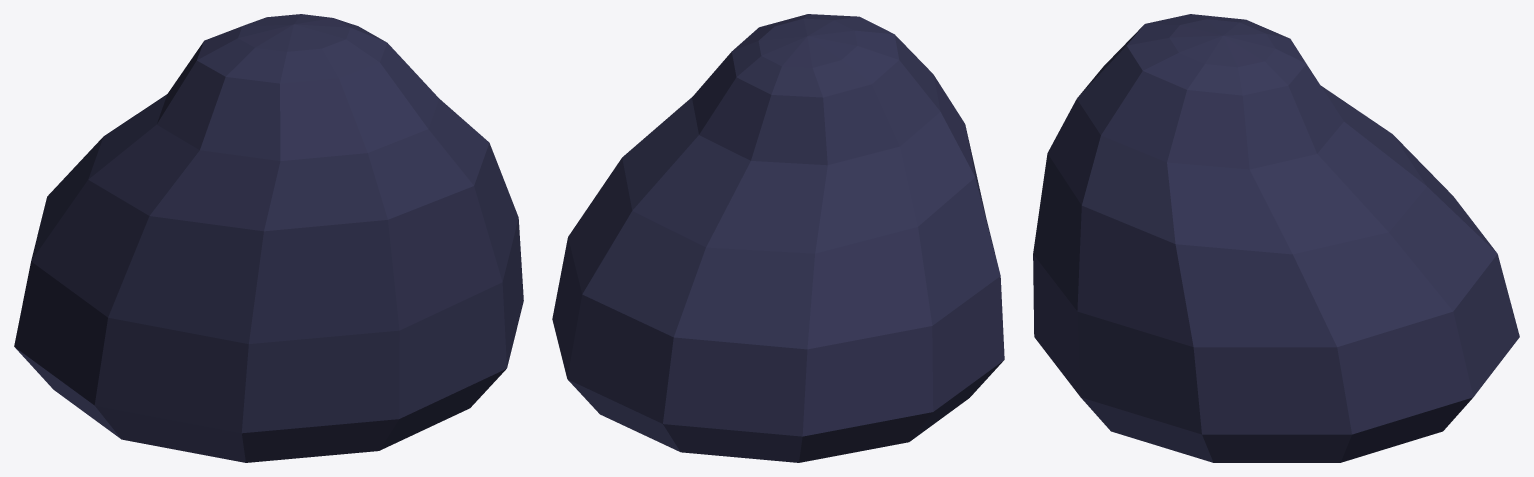
The model's file is GarbageBag01.fbx.
3 views of the same model, side by side, from view 1: azimuth 30°, elevation 25°; view 2: azimuth 150°, elevation 25°; view 3: azimuth 270°, elevation 25° (orthographic). The views are drawn at different scales.
Visible parts, largest first — view 1: Sphere; view 2: Sphere; view 3: Sphere.
Boxes of the visible parts, x1,y1,x2,y2 form: Sphere: (14,14,523,462); Sphere: (552,14,1004,462); Sphere: (1033,14,1519,462).
Size of the model in its own units: 182 by 162 by 192.
